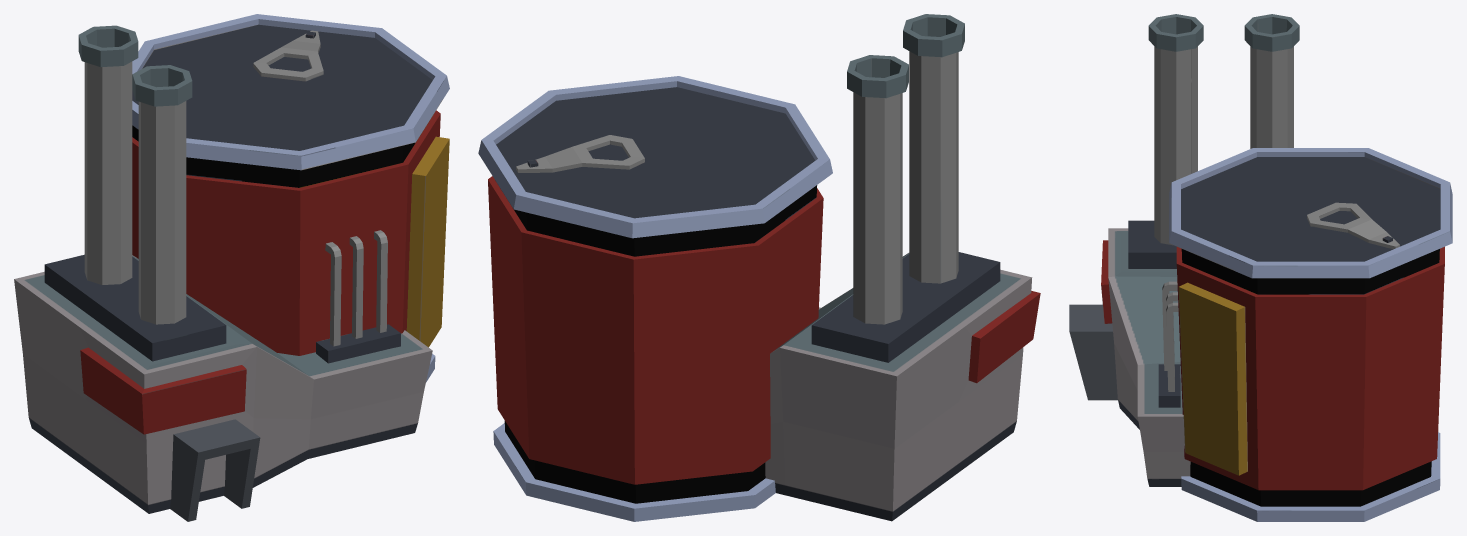
File: guozhi.fbx
The picture shows the model from 3 angles, left to right: view 1: azimuth 30°, elevation 25°; view 2: azimuth 150°, elevation 25°; view 3: azimuth 270°, elevation 25°; orthographic projection. The views are drawn at different scales.
Visible parts, largest first — view 1: 立方体.010; view 2: 立方体.010; view 3: 立方体.010.
Boxes of the visible parts, x1=… form: 立方体.010: x1=14, y1=14, x2=449, y2=521; 立方体.010: x1=478, y1=14, x2=1040, y2=521; 立方体.010: x1=1069, y1=14, x2=1452, y2=521.
Size of the model in its own units: 289 by 283 by 274.
Materials: 1 (1 with a texture image).
